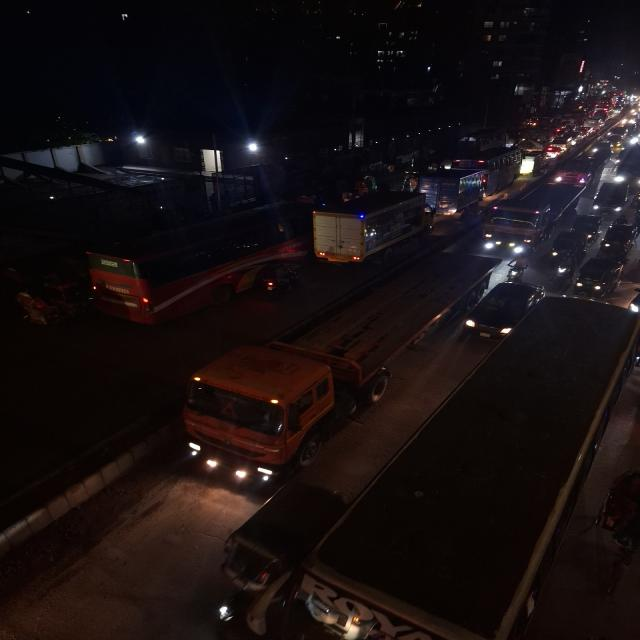bus: (72, 209, 303, 325), (308, 190, 435, 265)
car: (460, 279, 544, 341), (591, 182, 628, 216), (613, 144, 639, 188)
cng: (573, 254, 628, 299), (548, 230, 588, 264), (570, 213, 601, 246), (602, 222, 636, 252)
motorcycle: (257, 260, 303, 298), (504, 260, 526, 282)
pickup_van: (554, 157, 602, 185)
rickshaw: (588, 463, 640, 590), (7, 284, 79, 329)
truck: (168, 337, 396, 482), (308, 189, 435, 265), (480, 187, 570, 254), (460, 278, 544, 342), (420, 167, 488, 215)
